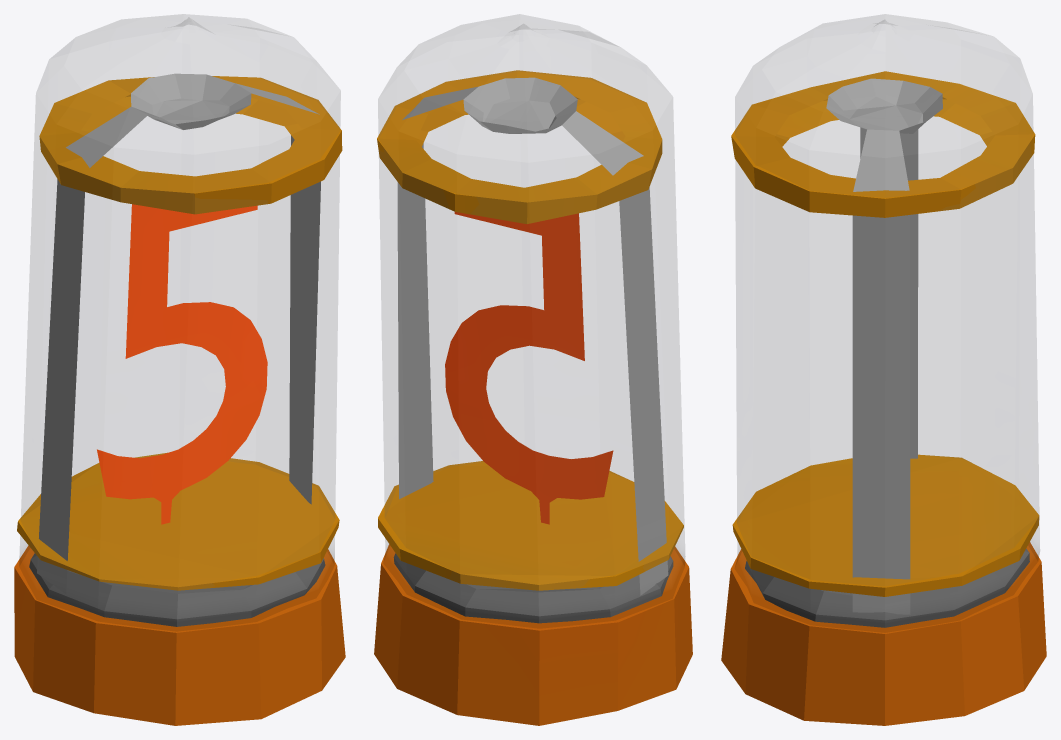
Rendered from obj_num05_base.gltf.
3 renders of one model, left to right at view 1: azimuth 30°, elevation 25°; view 2: azimuth 150°, elevation 25°; view 3: azimuth 270°, elevation 25°, orthographic. The views are drawn at different scales.
Parts seen in each view (by area): view 1: obj_num05_base; view 2: obj_num05_base; view 3: obj_num05_base.
Part boxes in pixels (x1=…): obj_num05_base: x1=14, y1=14, x2=345, y2=725; obj_num05_base: x1=374, y1=14, x2=692, y2=725; obj_num05_base: x1=721, y1=14, x2=1046, y2=725.
Size of what is drawn, in the model's own units: 0.3374 by 0.7186 by 0.3285.
2 materials, 2 textured.
